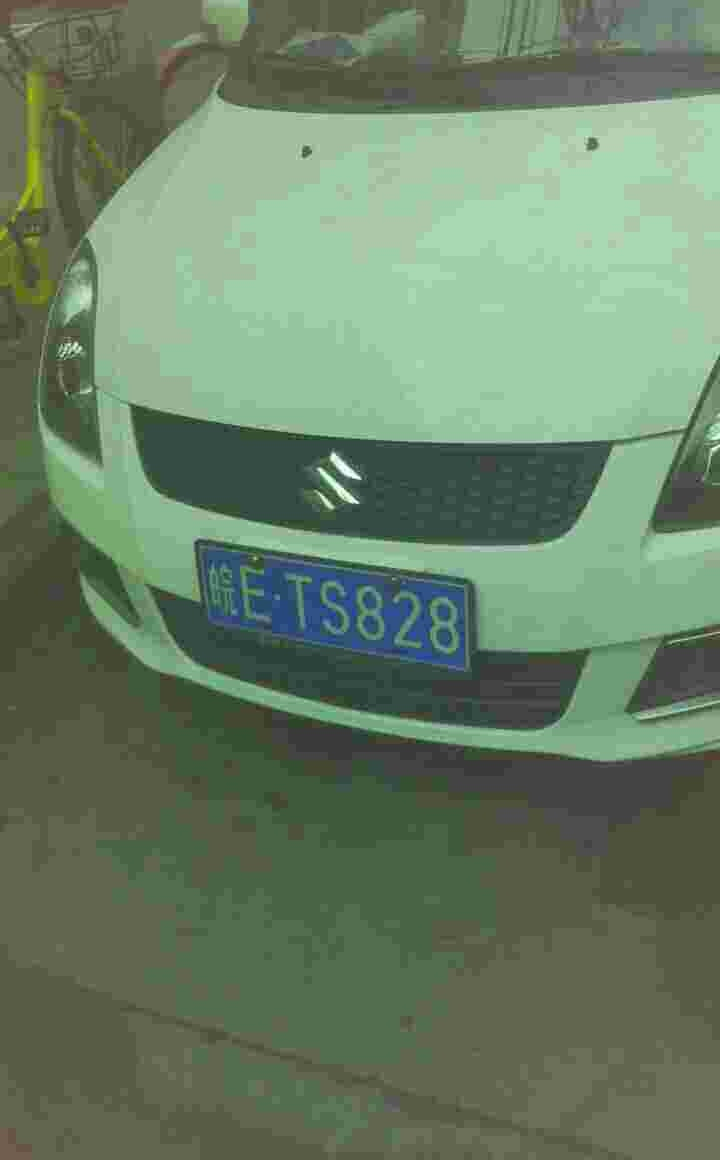license_plate: (202, 558, 487, 654)
